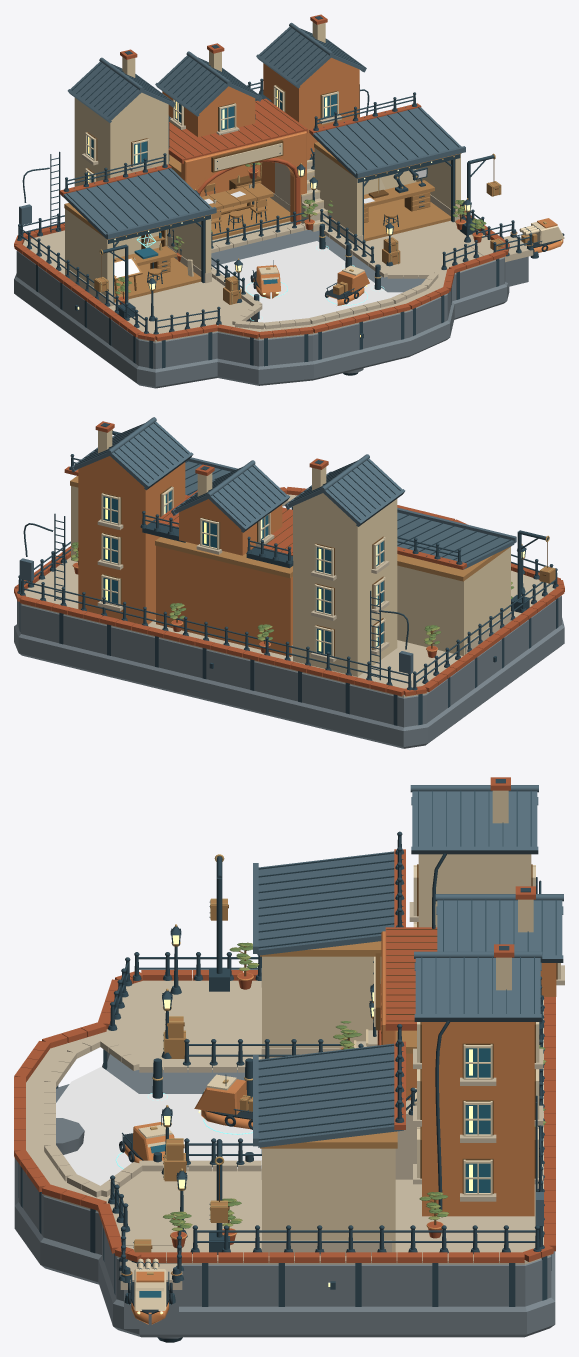
Rendered from chongzhen-refined-v1-low.glb.
3 views of the same model, one above another, from view 1: azimuth 30°, elevation 25°; view 2: azimuth 150°, elevation 25°; view 3: azimuth 270°, elevation 25° (orthographic). The views are drawn at different scales.
Visible parts, largest first — view 1: harbor_stone, harbor_slate, harbor_metal, harbor_stone_paving, harbor_plaster_cream, harbor_plaster_clay, harbor_wood, harbor_plaster_orange (×3), harbor_pool, harbor_paper (×2), harbor_wood_dark, harbor_glass (+3 smaller); view 2: harbor_stone, harbor_plaster_orange, harbor_plaster_cream, harbor_slate, harbor_metal, harbor_plaster_clay, harbor_stone_paving, harbor_paper, harbor_wood, harbor_glass, harbor_wood_dark, harbor_lamp (+1 smaller); view 3: harbor_slate, harbor_stone, harbor_stone_paving, harbor_plaster_cream, harbor_metal, harbor_plaster_orange (×3), harbor_plaster_clay, harbor_pool, harbor_wood, harbor_paper (×2), harbor_wood_dark, harbor_glass (+3 smaller).
Part boxes in pixels (<box>): harbor_stone: <box>14,230,528,388</box>; harbor_slate: <box>19,22,465,242</box>; harbor_metal: <box>17,16,533,375</box>; harbor_stone_paving: <box>23,115,533,342</box>; harbor_plaster_cream: <box>65,22,460,296</box>; harbor_plaster_clay: <box>14,14,509,341</box>; harbor_wood: <box>64,142,533,304</box>; harbor_plaster_orange (×3): <box>118,57,483,305</box>; harbor_pool: <box>212,241,402,322</box>; harbor_paper (×2): <box>85,85,564,276</box>; harbor_wood_dark: <box>87,85,501,298</box>; harbor_glass: <box>87,89,336,259</box>; harbor_stone: <box>14,505,564,748</box>; harbor_plaster_orange: <box>72,456,437,656</box>; harbor_plaster_cream: <box>71,430,510,676</box>; harbor_slate: <box>19,417,516,674</box>; harbor_metal: <box>17,422,558,725</box>; harbor_plaster_clay: <box>14,421,564,696</box>; harbor_stone_paving: <box>21,494,554,697</box>; harbor_paper: <box>101,486,385,656</box>; harbor_wood: <box>70,476,555,583</box>; harbor_glass: <box>103,490,383,655</box>; harbor_wood_dark: <box>76,486,547,656</box>; harbor_lamp: <box>105,495,524,651</box>; harbor_slate: <box>253,785,563,1226</box>; harbor_stone: <box>14,1052,555,1338</box>; harbor_stone_paving: <box>26,902,564,1289</box>; harbor_plaster_cream: <box>262,790,533,1252</box>; harbor_metal: <box>18,779,556,1342</box>; harbor_plaster_orange (×3): <box>124,931,556,1239</box>; harbor_plaster_clay: <box>14,777,555,1262</box>; harbor_pool: <box>56,1066,261,1185</box>; harbor_wood: <box>121,898,416,1275</box>; harbor_paper (×2): <box>134,865,560,1310</box>; harbor_wood_dark: <box>151,864,557,1248</box>; harbor_glass: <box>465,1048,490,1192</box>.
Size of the model in its own units: 19.43 by 9.87 by 13.2.
